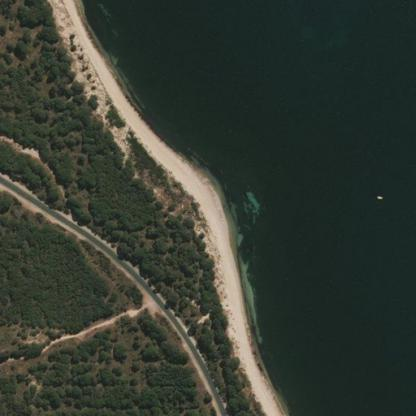ship: (376, 29, 382, 33)
